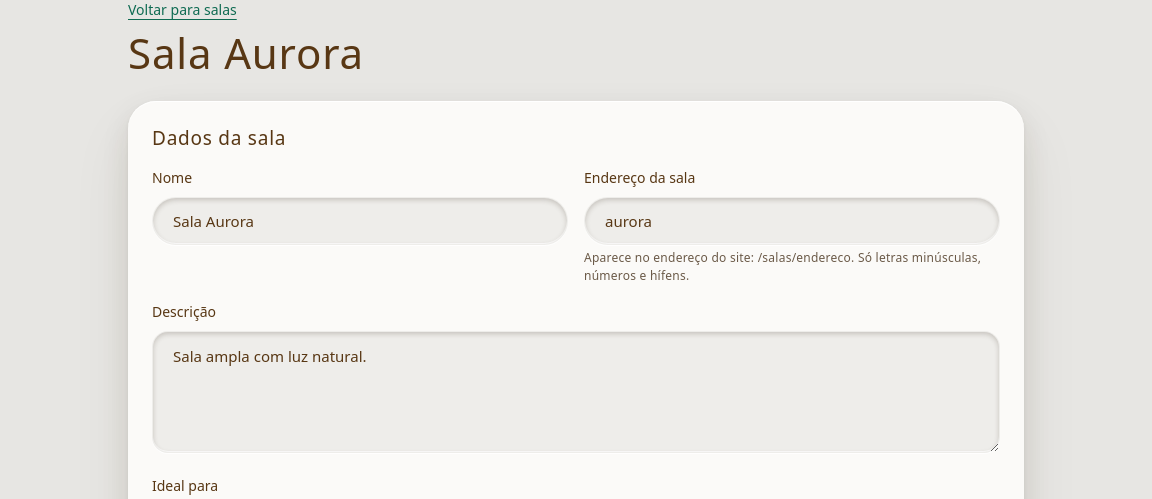
Test: RoomEditPage edit (GES-103) › shows the core slug message and sends nothing for an invalid address
The width and height of the screenshot is (1152, 499).
Step 1. Replace the text in the field labelled "Endereço da sala" with "Sala Nova!" → (792, 221), box [584,197,1000,245]
(page scrolled)
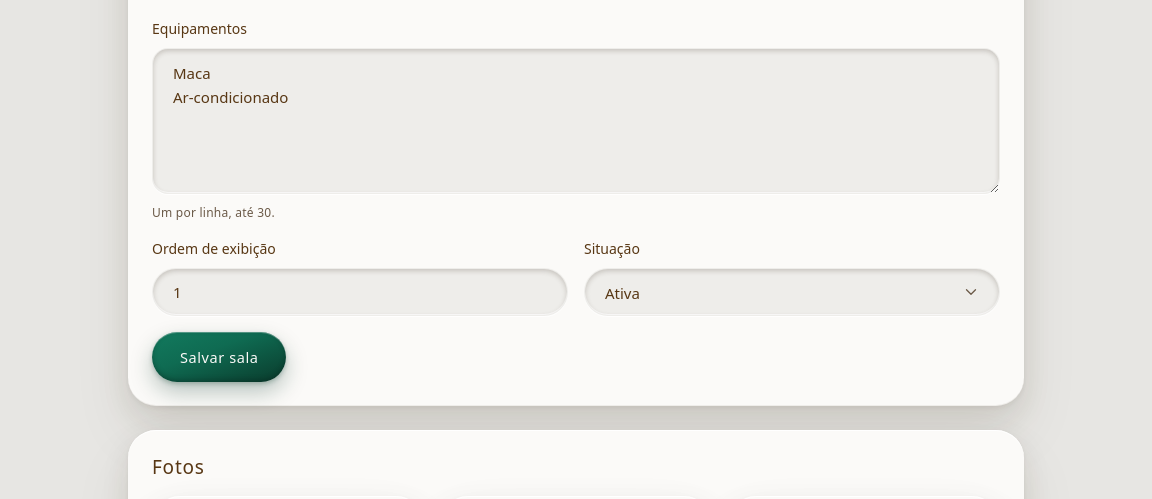
Step 2. Click the button "Salvar sala" → click(219, 357), box [152,332,286,382]
(page scrolled)
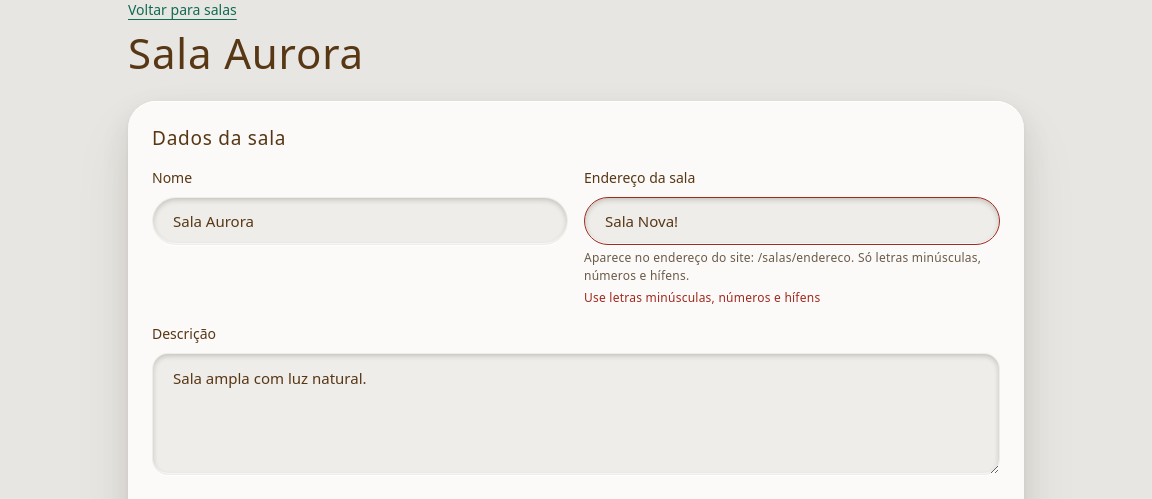
Now the text "Use letras minúsculas, números e hífens" is shown, box [584,289,820,306]
